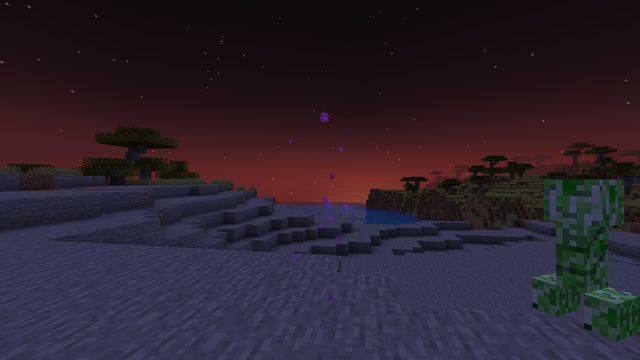creepers: (536, 172, 639, 335)
